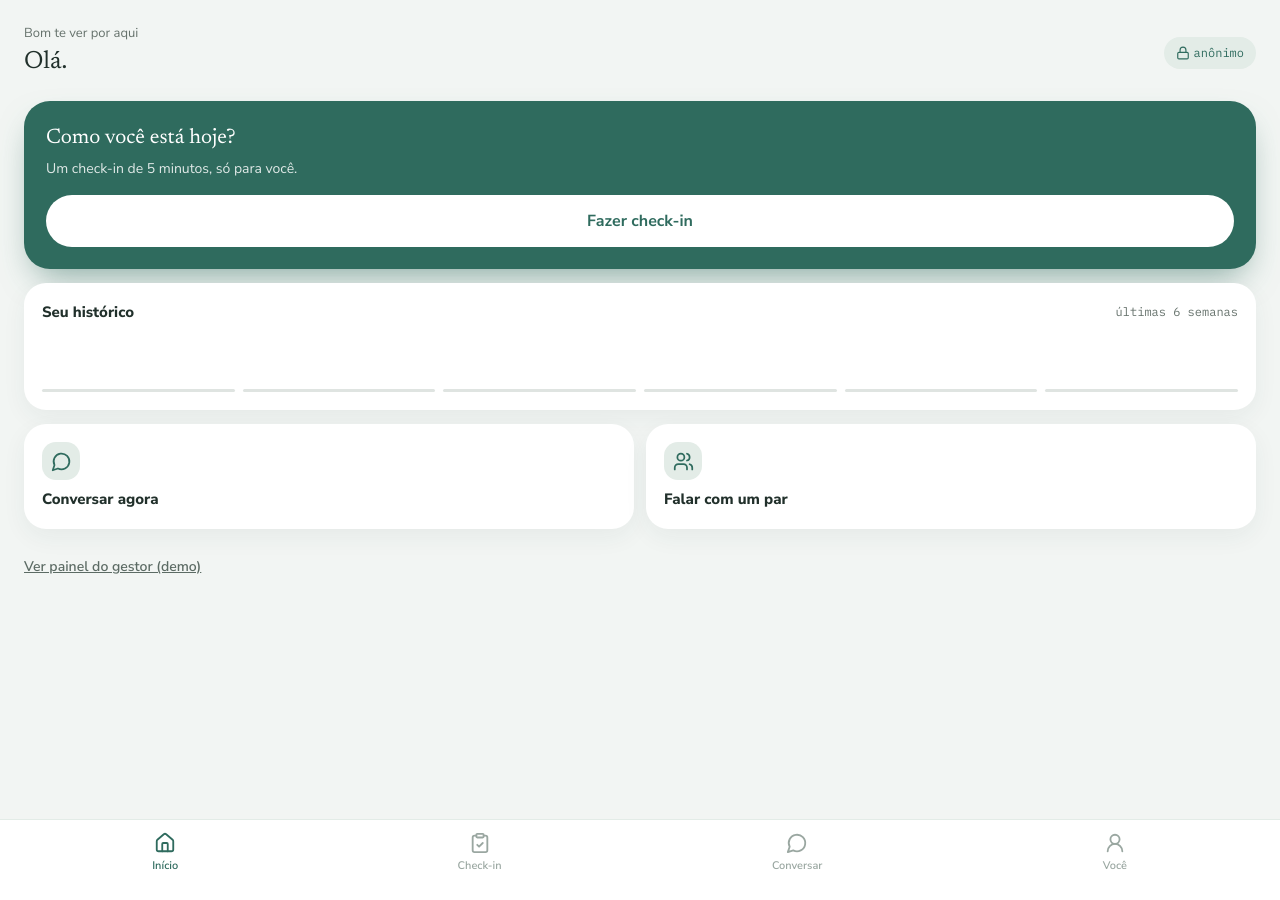
Test: onboarding router flow › Home's check-in CTA reaches the assessment selector through the real route table
Click the button "Fazer check-in".
click(640, 221)  # box [46,195,1234,247]
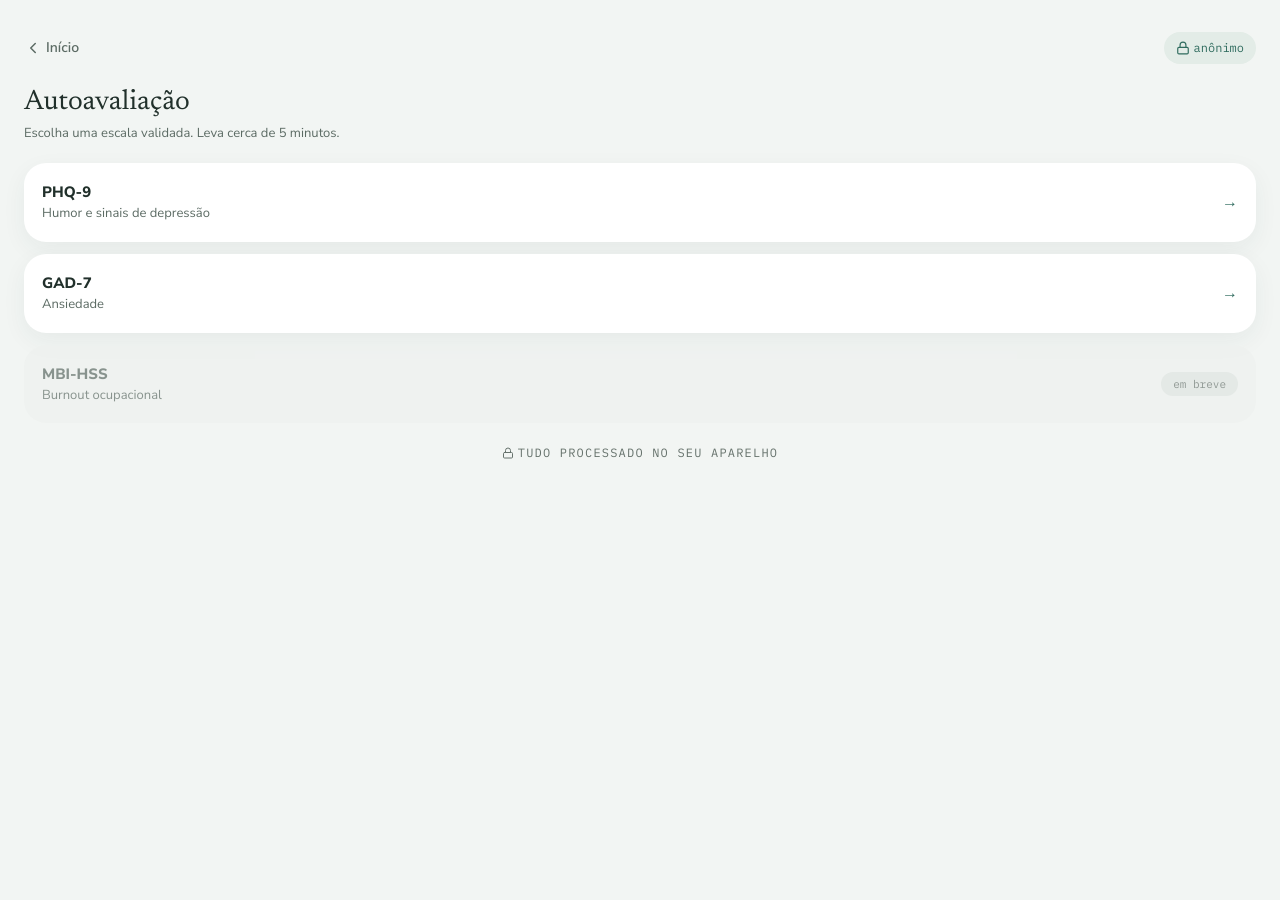
Expected: the heading "Autoavaliação" is shown, [24,88,190,116]
